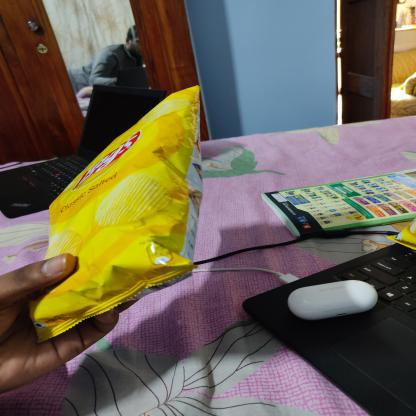classicsalted: (28, 82, 204, 344)
